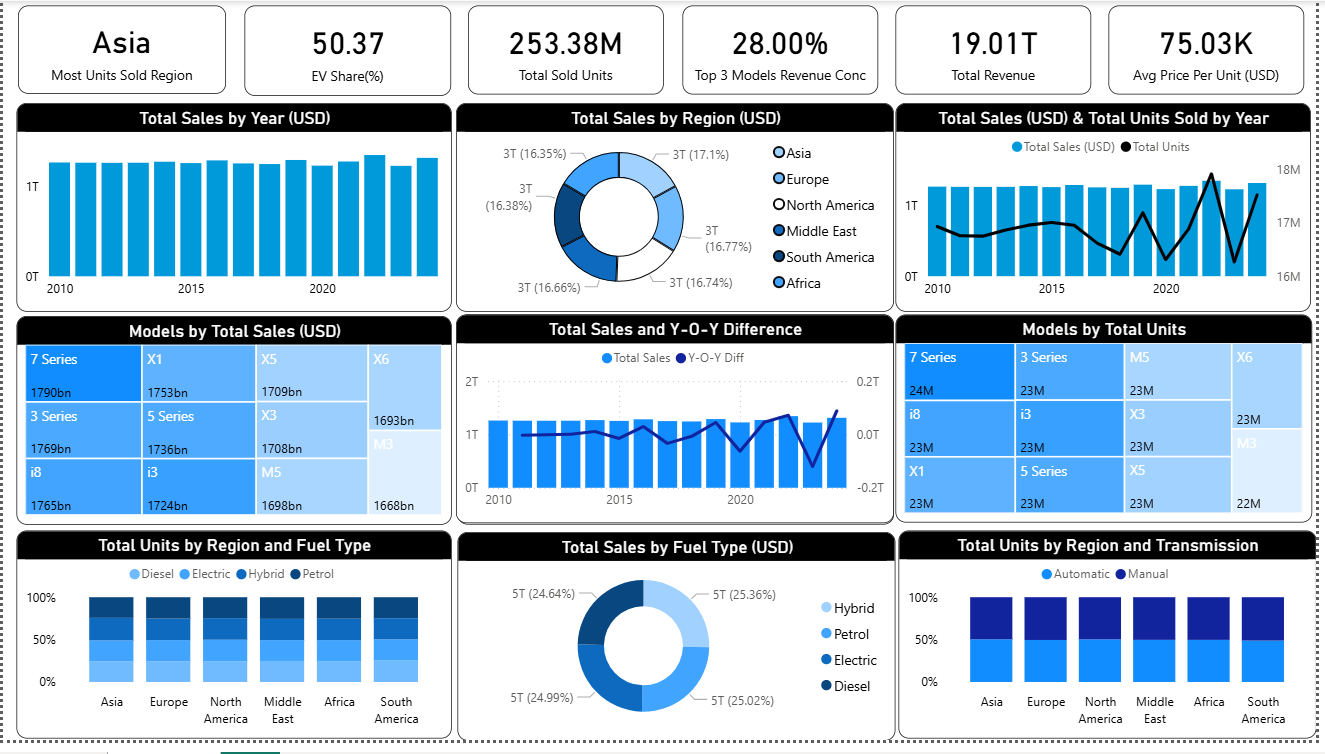

Layout of this report page (visuals, bound fields, positions):
{"tool":"powerbi","page":{"name":"Page 1","canvas":[1280,720],"ordinal":0},"visuals":[{"type":"card","fields":{"Values":["Min(BMW sales data (2010-2024) (1).Region)"]},"box":[15.1,3.9,202.9,86.3],"z":0},{"type":"card","fields":{"Values":["BMW.EV Share(%)"]},"box":[235.2,3.9,201.4,87.8],"z":1000},{"type":"card","fields":{"Values":["Sum(BMW.Sales_Volume)"]},"box":[453.7,4.4,190.9,86.9],"z":2000},{"type":"card","fields":{"Values":["BMW.Revenue Concentration Top 3 Models %"]},"box":[661.8,4.4,190.9,86.9],"z":3000},{"type":"card","fields":{"Values":["BMW.M_Total Revenue"]},"box":[869.8,4.4,190.9,86.9],"z":4000},{"type":"card","fields":{"Values":["Avg(BMW.Price_USD)"]},"box":[1077.8,4.4,190.9,86.9],"z":5000},{"type":"columnChart","title":"Total Sales by Year (USD)","fields":{"Category":["BMW.Year"],"Y":["Sum(BMW.Total Sales)"]},"box":[12.7,100,423.8,203.2],"z":6000},{"type":"lineClusteredColumnComboChart","title":"Total Sales (USD) & Total Units Sold by Year","fields":{"Category":["BMW.Year"],"Y":["Sum(BMW.Total Sales)"],"Y2":["Sum(BMW.Sales_Volume)"]},"box":[869.2,100,404.6,203.1],"z":7000},{"type":"donutChart","title":"Total Sales by Region (USD)","fields":{"Category":["BMW.Region"],"Y":["Sum(BMW.Total Sales)"]},"box":[441.3,100,427,203.2],"z":8000},{"type":"treemap","title":"Models by Total Units","fields":{"Group":["BMW.Model"],"Values":["Sum(BMW.Sales_Volume)"]},"box":[869.2,305.9,405.8,202.9],"z":9000},{"type":"image","box":[442.8,305.4,425.3,204.6],"z":10000},{"type":"donutChart","title":"Total Sales by Fuel Type (USD)","fields":{"Y":["Sum(BMW.Total Sales)"],"Category":["BMW.Fuel_Type"]},"box":[442.9,517.5,427,203.2],"z":11000},{"type":"treemap","title":"Models by Total Sales (USD)","fields":{"Group":["BMW.Model"],"Values":["Sum(BMW.Total Sales)"]},"box":[12.7,306.3,423.8,203.2],"z":12000},{"type":"hundredPercentStackedColumnChart","title":"Total Units by Region and Fuel Type","fields":{"Category":["BMW.Region"],"Y":["Sum(BMW.Sales_Volume)"],"Series":["BMW.Fuel_Type"]},"box":[13.6,516.3,424,202.9],"z":13000},{"type":"hundredPercentStackedColumnChart","title":"Total Units by Region and Transmission","fields":{"Category":["BMW.Region"],"Y":["Sum(BMW.Sales_Volume)"],"Series":["BMW.Transmission"]},"box":[872.2,516.3,407.3,202.9],"z":14000},{"type":"lineClusteredColumnComboChart","title":"Total Sales and Y-O-Y Difference","fields":{"Category":["BMW.Year"],"Y":["Measure.M_Total Revenue"],"Y2":["select"]},"box":[441.4,305.4,426.7,203.1],"z":15000}]}

Visuals, with their boxes in screenshot pixels (x1, y1, x2, y2), scaled from the page's 1280x720 canvas onto the 1325x754 screenshot:
card - Min(BMW sales data (2010-2024) (1).Region): Rect(16, 4, 226, 94)
card - BMW.EV Share(%): Rect(243, 4, 452, 96)
card - Sum(BMW.Sales_Volume): Rect(470, 5, 667, 96)
card - BMW.Revenue Concentration Top 3 Models %: Rect(685, 5, 883, 96)
card - BMW.M_Total Revenue: Rect(900, 5, 1098, 96)
card - Avg(BMW.Price_USD): Rect(1116, 5, 1313, 96)
"Total Sales by Year (USD)" columnChart: Rect(13, 105, 452, 318)
"Total Sales (USD) & Total Units Sold by Year" lineClusteredColumnComboChart: Rect(900, 105, 1319, 317)
"Total Sales by Region (USD)" donutChart: Rect(457, 105, 899, 318)
"Models by Total Units" treemap: Rect(900, 320, 1320, 533)
image: Rect(458, 320, 899, 534)
"Total Sales by Fuel Type (USD)" donutChart: Rect(458, 542, 900, 753)
"Models by Total Sales (USD)" treemap: Rect(13, 321, 452, 534)
"Total Units by Region and Fuel Type" hundredPercentStackedColumnChart: Rect(14, 541, 453, 753)
"Total Units by Region and Transmission" hundredPercentStackedColumnChart: Rect(903, 541, 1324, 753)
"Total Sales and Y-O-Y Difference" lineClusteredColumnComboChart: Rect(457, 320, 899, 533)
